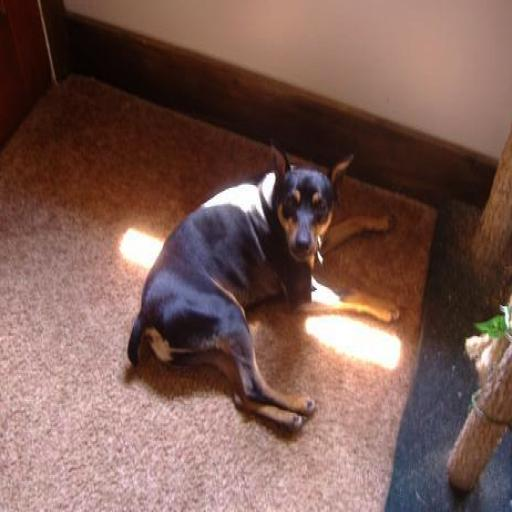dog_face: (266, 134, 356, 268)
